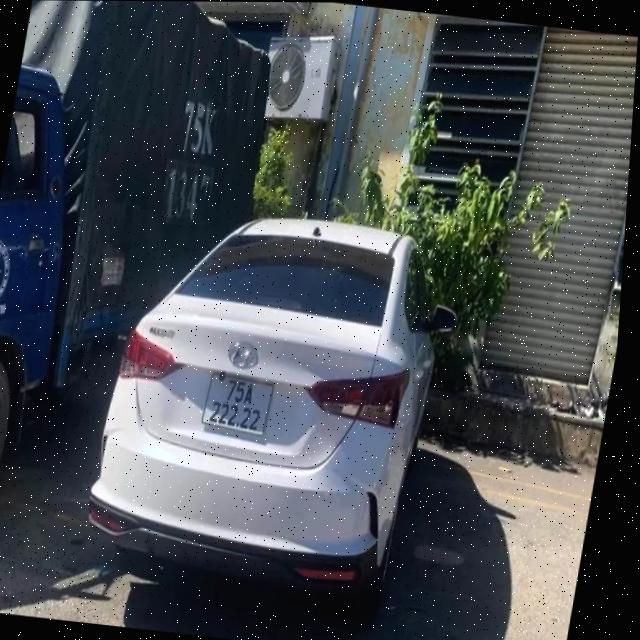car: (74, 196, 498, 640), (0, 0, 181, 554)
plate: (191, 366, 283, 441)
